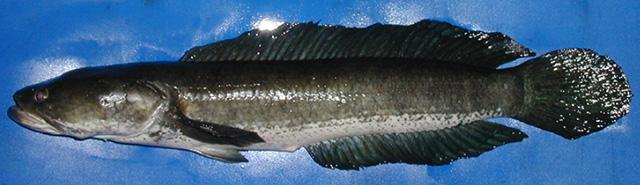Mulut: (1, 70, 71, 158)
Sirip Anal: (298, 117, 538, 176)
Sirip Ekor: (509, 36, 638, 148), (159, 93, 269, 149)
Sirip Perut: (188, 140, 256, 176)
Sirip Punggung: (175, 16, 540, 88)
